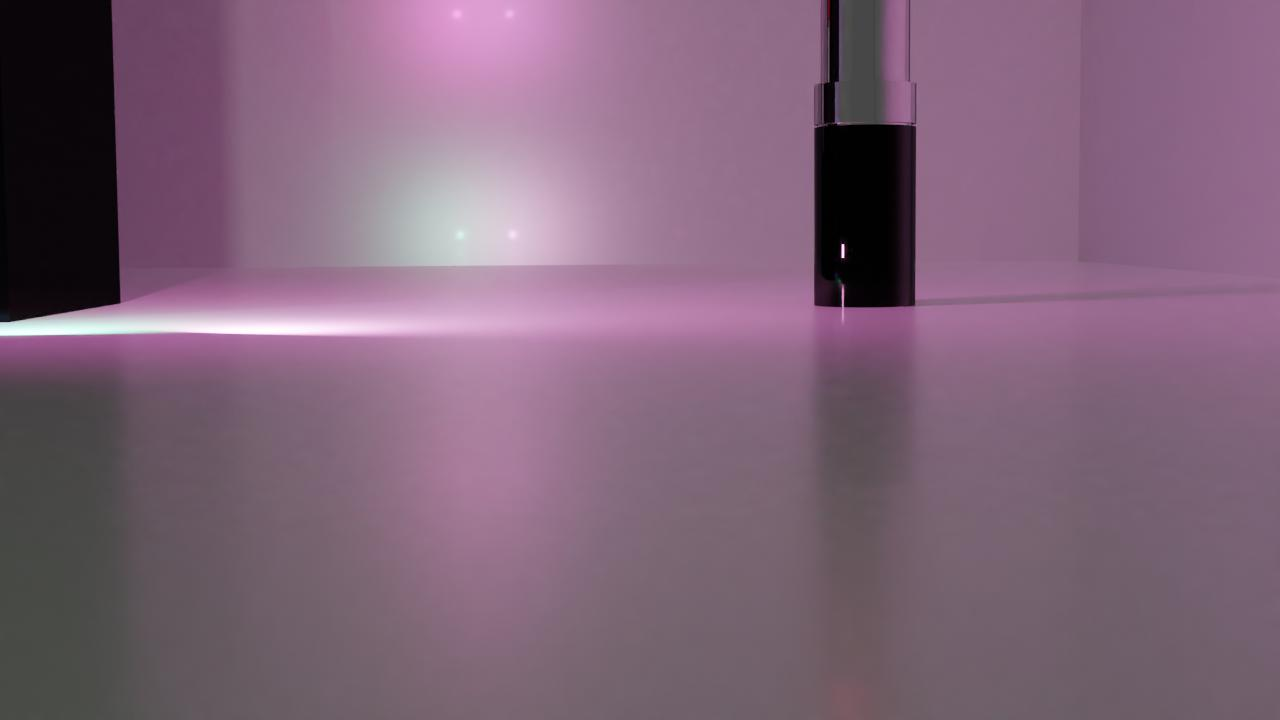CLASSIFIER_NAME: (812, 0, 918, 315)
